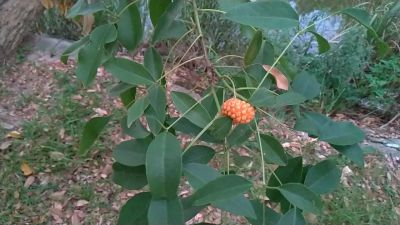eggs: (220, 94, 253, 123)
